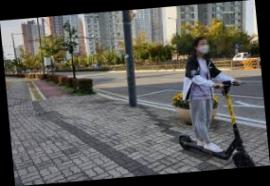nonhelmet: (168, 33, 257, 173)
